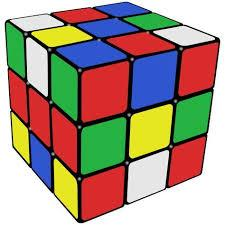cubos: (2, 0, 223, 223)
